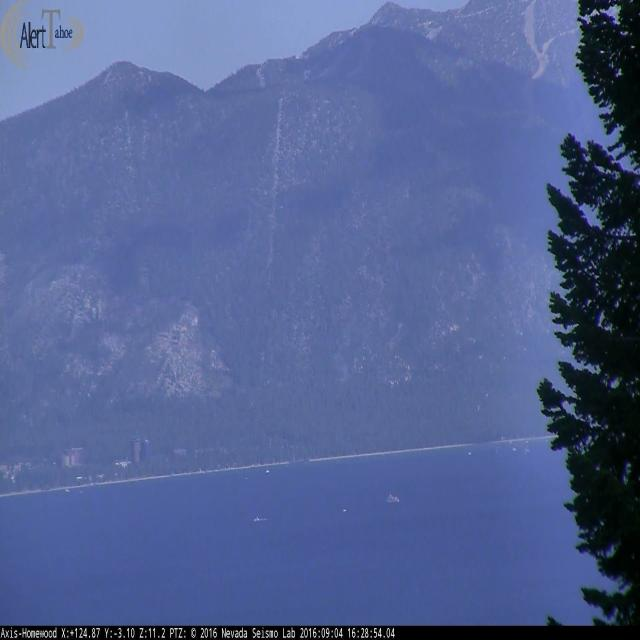smoke: (332, 355, 350, 379)
